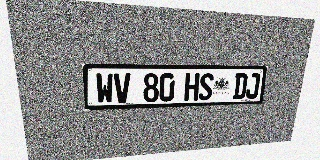0: (159, 73, 175, 102)
8: (143, 73, 159, 102)
D: (233, 73, 248, 99)
H: (184, 73, 200, 101)
J: (245, 73, 261, 99)
S: (198, 73, 214, 100)
V: (114, 73, 131, 103)
W: (95, 73, 114, 104)
